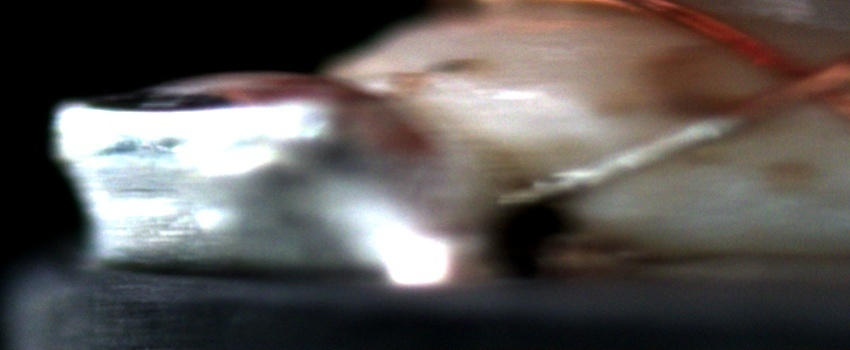TS: (498, 114, 744, 211)
